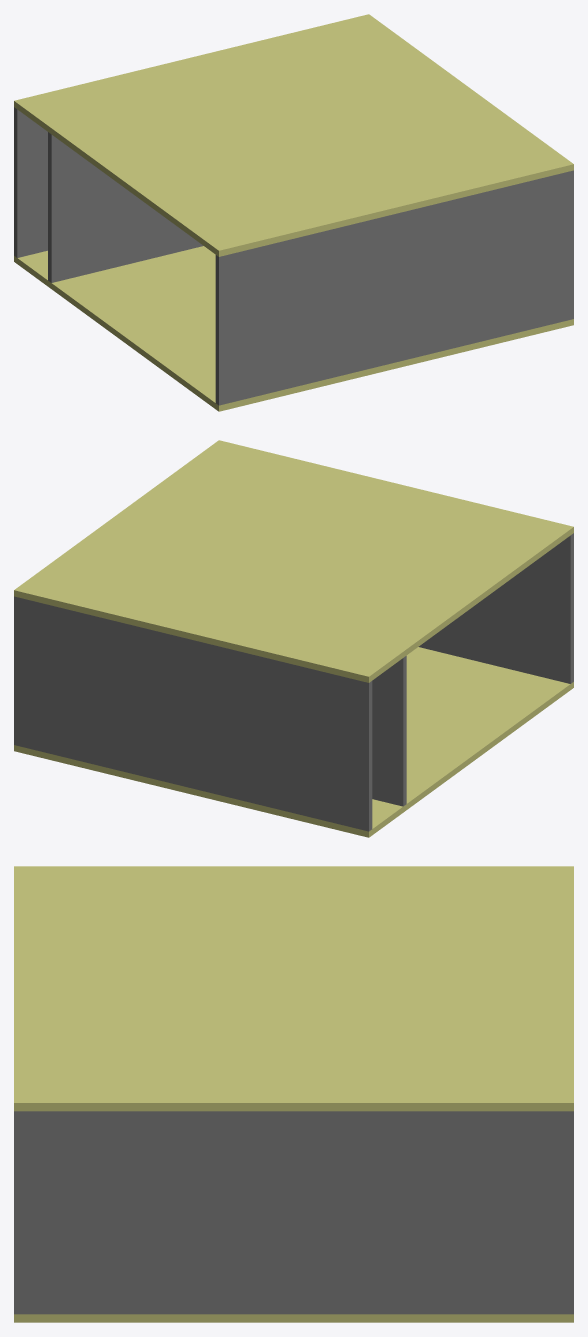
Rendered from l_shape_corridor.dae.
The picture shows the model from 3 angles, top to bottom: view 1: azimuth 30°, elevation 25°; view 2: azimuth 150°, elevation 25°; view 3: azimuth 270°, elevation 25°; orthographic projection. The views are drawn at different scales.
Visible parts, largest first — view 1: link_ceiling_plane, outer2_along_y_wall_link, link_ground_plane, inner_along_x_wall_link, outer_along_x_wall_link, outer2_along_x_wall_link; view 2: link_ceiling_plane, outer_along_x_wall_link, link_ground_plane, outer2_along_y_wall_link, inner_along_x_wall_link; view 3: link_ceiling_plane, outer2_along_x_wall_link, outer_along_y_wall_link, link_ground_plane, outer_along_x_wall_link, outer2_along_y_wall_link.
Part boxes in pixels (x1=…): link_ceiling_plane: x1=14, y1=14, x2=573, y2=256; outer2_along_y_wall_link: x1=215, y1=172, x2=567, y2=405; link_ground_plane: x1=14, y1=246, x2=573, y2=411; inner_along_x_wall_link: x1=48, y1=132, x2=203, y2=282; outer_along_x_wall_link: x1=14, y1=107, x2=47, y2=257; outer2_along_x_wall_link: x1=568, y1=170, x2=573, y2=320; link_ceiling_plane: x1=14, y1=440, x2=573, y2=682; outer_along_x_wall_link: x1=14, y1=598, x2=372, y2=831; link_ground_plane: x1=14, y1=647, x2=573, y2=837; outer2_along_y_wall_link: x1=418, y1=533, x2=573, y2=683; inner_along_x_wall_link: x1=372, y1=656, x2=406, y2=806; link_ceiling_plane: x1=14, y1=866, x2=573, y2=1111; outer2_along_x_wall_link: x1=14, y1=1111, x2=293, y2=1314; outer_along_y_wall_link: x1=294, y1=1111, x2=564, y2=1314; link_ground_plane: x1=14, y1=1314, x2=573, y2=1322; outer_along_x_wall_link: x1=564, y1=1111, x2=573, y2=1314; outer2_along_y_wall_link: x1=14, y1=1111, x2=23, y2=1218.
Bounding box in the file's own units: 6 × 6 × 2.6.
